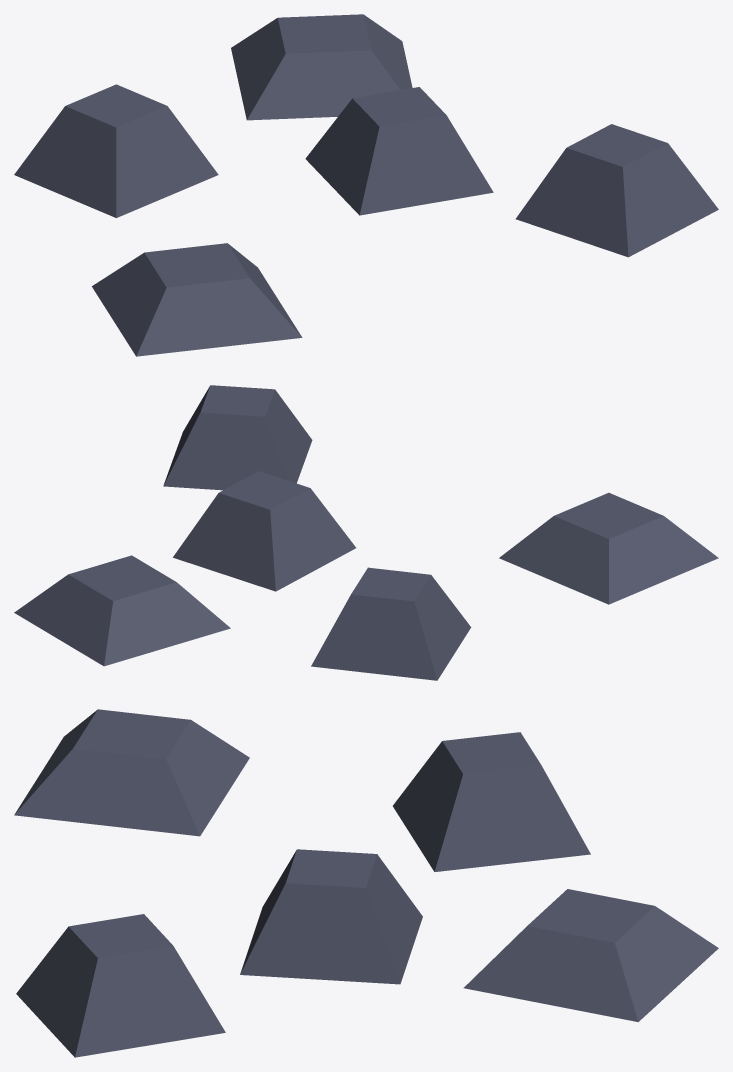
Rendered from rocks_smallA.glb.
3 renders of one model, top to bottom at view 1: azimuth 30°, elevation 25°; view 2: azimuth 150°, elevation 25°; view 3: azimuth 270°, elevation 25°, orthographic. The views are drawn at different scales.
Visible parts, largest first — view 1: rocks_smallA; view 2: rocks_smallA; view 3: rocks_smallA.
Part boxes in pixels (x1,y1,x2,y2): rocks_smallA: [14, 14, 718, 356]; rocks_smallA: [14, 385, 718, 680]; rocks_smallA: [14, 709, 718, 1057].
Bounding box in the file's own units: 0.9372 × 0.1051 × 0.8698.
